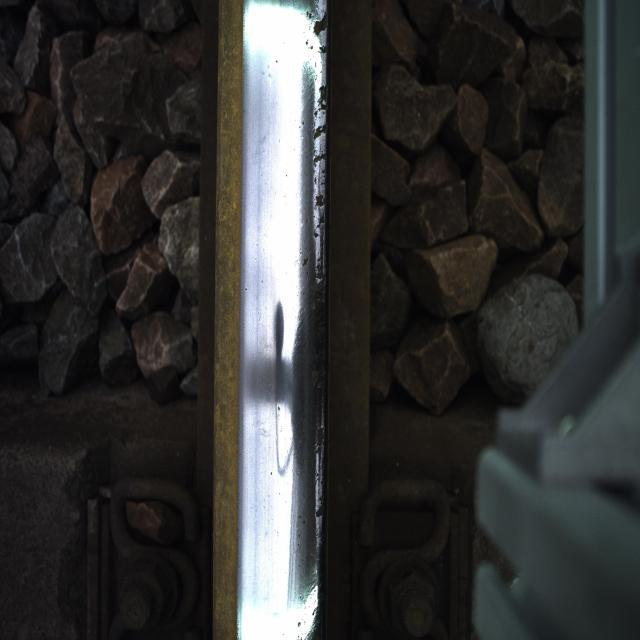crack: (244, 250, 321, 544)
